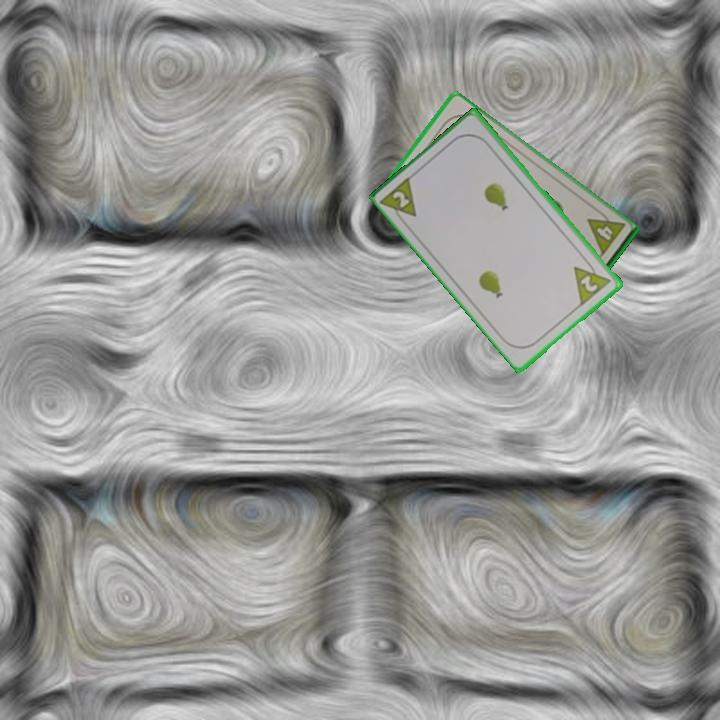2p: (570, 254, 614, 308), (378, 172, 420, 228)
4p: (583, 205, 628, 259)
